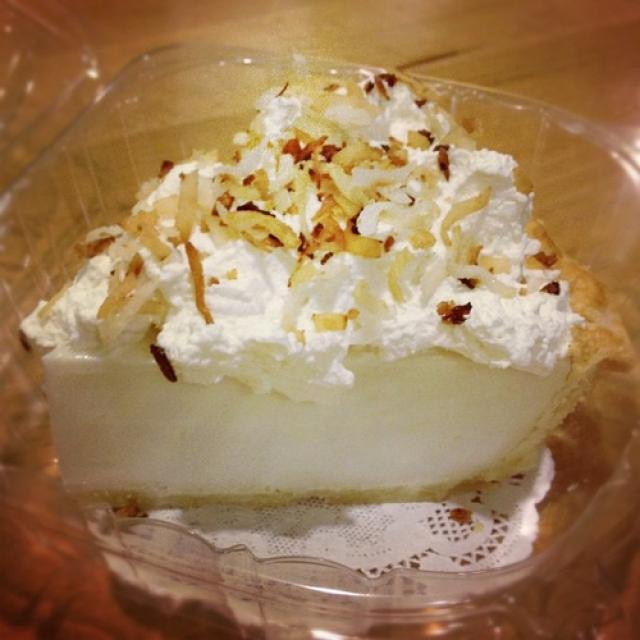蛋糕甜品: (23, 28, 617, 613)
